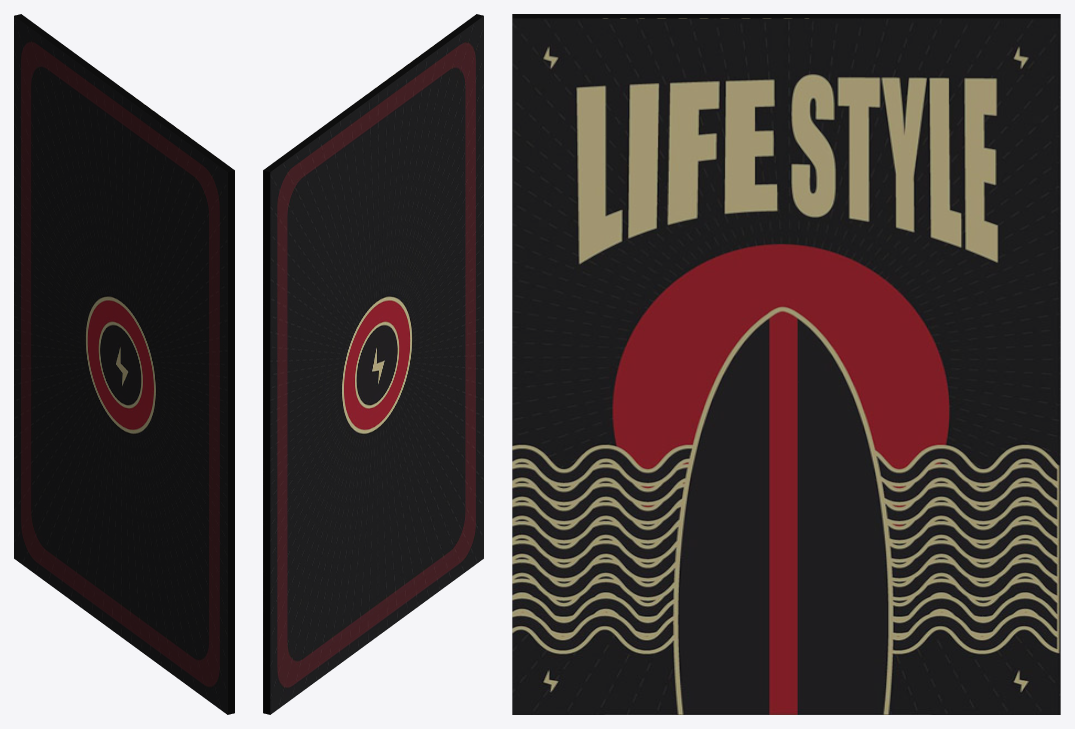
File: card_contact.glb
The picture shows the model from 3 angles, left to right: view 1: azimuth 30°, elevation 25°; view 2: azimuth 150°, elevation 25°; view 3: azimuth 270°, elevation 25°; orthographic projection. The views are drawn at different scales.
Parts seen in each view (by area): view 1: card lifestyle; view 2: card lifestyle; view 3: card lifestyle.
Boxes of the visible parts, <box> form: card lifestyle: <box>14,14,234,714</box>; card lifestyle: <box>263,14,483,714</box>; card lifestyle: <box>512,14,1060,714</box>.
Bounding box in the file's own units: 0.005 × 0.356 × 0.254.
Materials: 3 (3 with a texture image).
